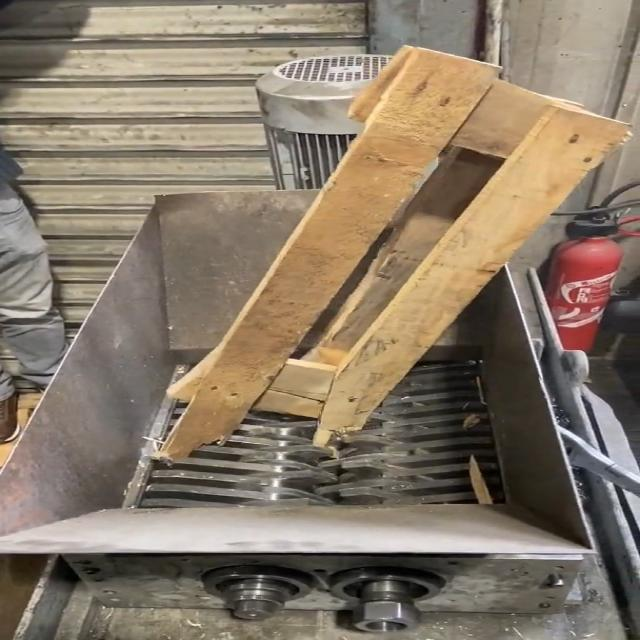Broyeur: (110, 342, 514, 528)
Palette: (139, 40, 632, 462)
